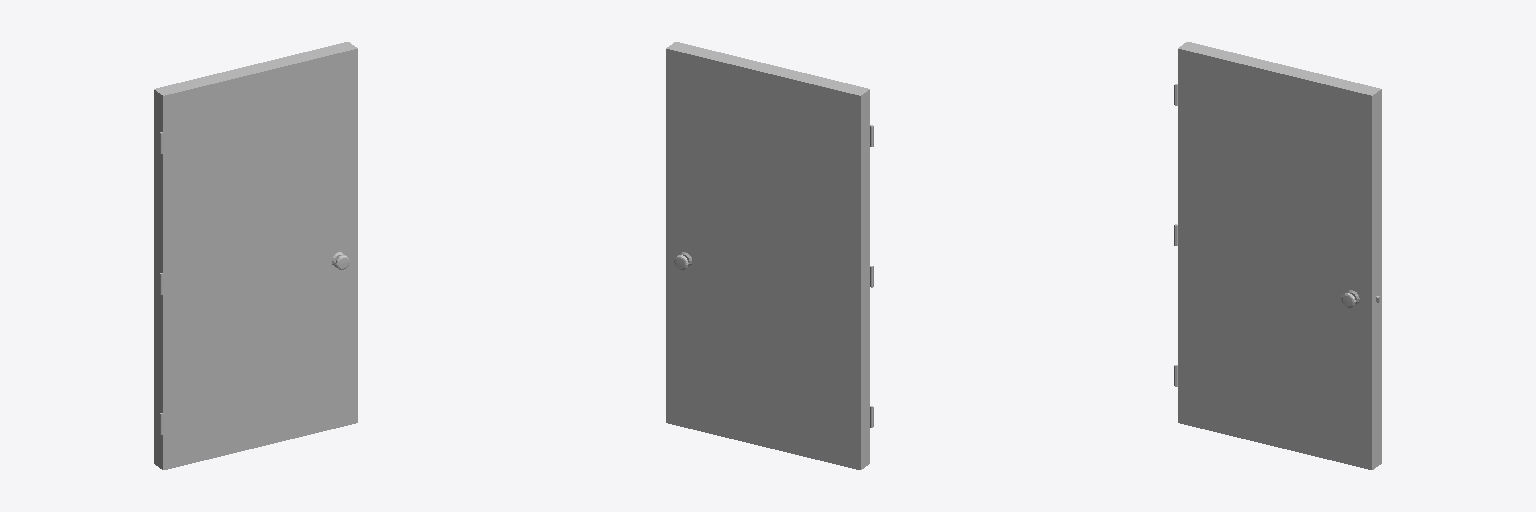
The model's file is Door.obj.
3 renders of one model, left to right at view 1: azimuth 30°, elevation 25°; view 2: azimuth 150°, elevation 25°; view 3: azimuth 330°, elevation 25°, orthographic.
Visible parts, largest first — view 1: default; view 2: default; view 3: default.
Part boxes in pixels (left/top/right/bottom): default: left=154, top=42, right=357, bottom=469; default: left=666, top=42, right=873, bottom=469; default: left=1174, top=42, right=1381, bottom=469.
Size of the model in its own units: 122 by 217 by 21.37.